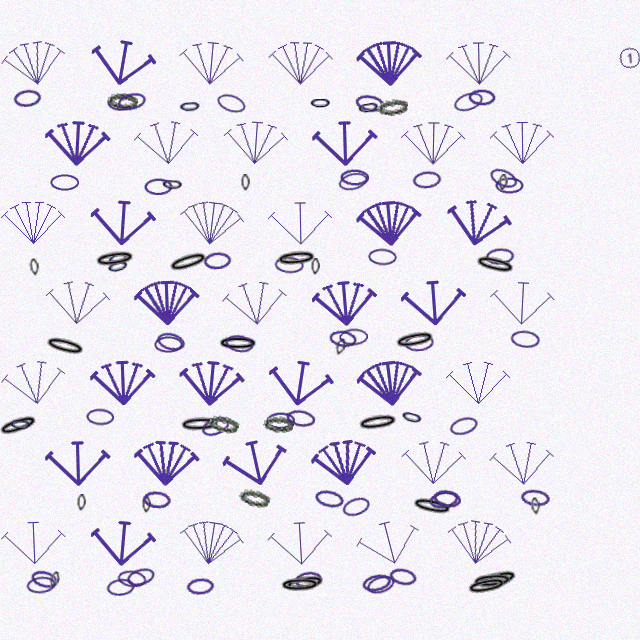chain: (166, 248, 211, 276), (0, 411, 41, 440), (43, 333, 87, 360), (476, 566, 520, 593), (473, 252, 517, 278), (410, 494, 454, 519), (393, 328, 437, 352), (465, 574, 509, 598), (356, 411, 400, 434), (283, 572, 327, 595), (93, 248, 137, 270), (275, 248, 318, 269), (487, 165, 520, 192), (471, 571, 514, 591), (199, 413, 232, 439), (452, 89, 485, 114), (215, 91, 247, 116), (340, 494, 372, 519), (365, 572, 397, 597), (179, 415, 221, 434), (448, 414, 480, 438), (125, 565, 157, 589), (279, 576, 321, 594), (116, 90, 148, 113), (337, 170, 369, 193), (155, 330, 187, 353), (376, 96, 409, 118), (207, 413, 240, 435), (238, 487, 271, 509), (217, 335, 259, 352), (29, 568, 60, 591), (313, 488, 345, 510), (361, 572, 392, 594), (388, 566, 418, 588), (354, 93, 385, 114), (224, 333, 255, 354), (285, 408, 316, 429), (428, 489, 459, 510), (432, 488, 462, 509), (105, 246, 132, 269), (328, 329, 358, 349), (510, 329, 540, 349), (520, 488, 550, 508), (26, 575, 56, 595), (117, 569, 147, 589), (13, 88, 42, 108), (106, 577, 135, 597), (294, 570, 323, 590), (105, 255, 131, 277), (399, 406, 425, 428), (412, 170, 442, 189), (485, 247, 515, 266), (404, 333, 434, 352), (107, 92, 138, 110), (263, 415, 294, 433), (203, 251, 232, 270), (142, 490, 171, 509), (186, 577, 215, 596), (274, 256, 304, 274), (107, 93, 136, 111), (368, 248, 397, 266), (339, 328, 368, 346), (86, 408, 114, 426), (356, 97, 381, 117), (50, 174, 79, 191), (144, 178, 173, 195), (340, 169, 369, 186), (495, 177, 524, 194), (154, 336, 183, 353), (266, 412, 295, 429), (468, 89, 496, 106), (178, 97, 202, 115), (161, 175, 184, 193), (9, 415, 32, 433), (309, 94, 332, 111), (334, 338, 347, 356), (48, 571, 61, 589), (29, 258, 40, 276), (530, 497, 541, 515), (498, 174, 508, 191), (241, 174, 250, 191), (311, 258, 320, 275), (77, 494, 86, 511), (142, 496, 151, 513)
fan: (352, 511, 427, 574), (219, 432, 293, 493), (442, 193, 515, 253), (87, 33, 159, 92), (443, 513, 515, 572), (265, 354, 336, 412), (176, 514, 247, 572), (0, 34, 70, 92), (309, 434, 380, 491), (0, 354, 70, 411), (177, 195, 247, 251), (355, 355, 425, 411), (177, 36, 246, 90), (355, 196, 424, 250), (221, 276, 290, 330), (177, 356, 246, 410), (311, 276, 379, 330), (89, 516, 157, 570), (133, 116, 201, 169), (222, 116, 290, 169), (89, 196, 157, 249), (44, 276, 112, 329), (400, 276, 468, 329), (356, 37, 423, 89), (44, 117, 111, 169), (489, 277, 556, 329), (133, 437, 200, 489), (489, 437, 556, 489), (267, 517, 334, 569), (134, 277, 200, 328), (90, 357, 156, 408), (401, 437, 467, 488), (1, 517, 67, 568), (268, 38, 334, 88), (446, 38, 512, 88), (312, 118, 378, 168), (45, 438, 111, 488), (401, 118, 466, 168), (268, 198, 333, 248), (490, 118, 555, 167), (1, 198, 66, 247), (446, 358, 511, 407)
noise: (617, 45, 640, 71)
